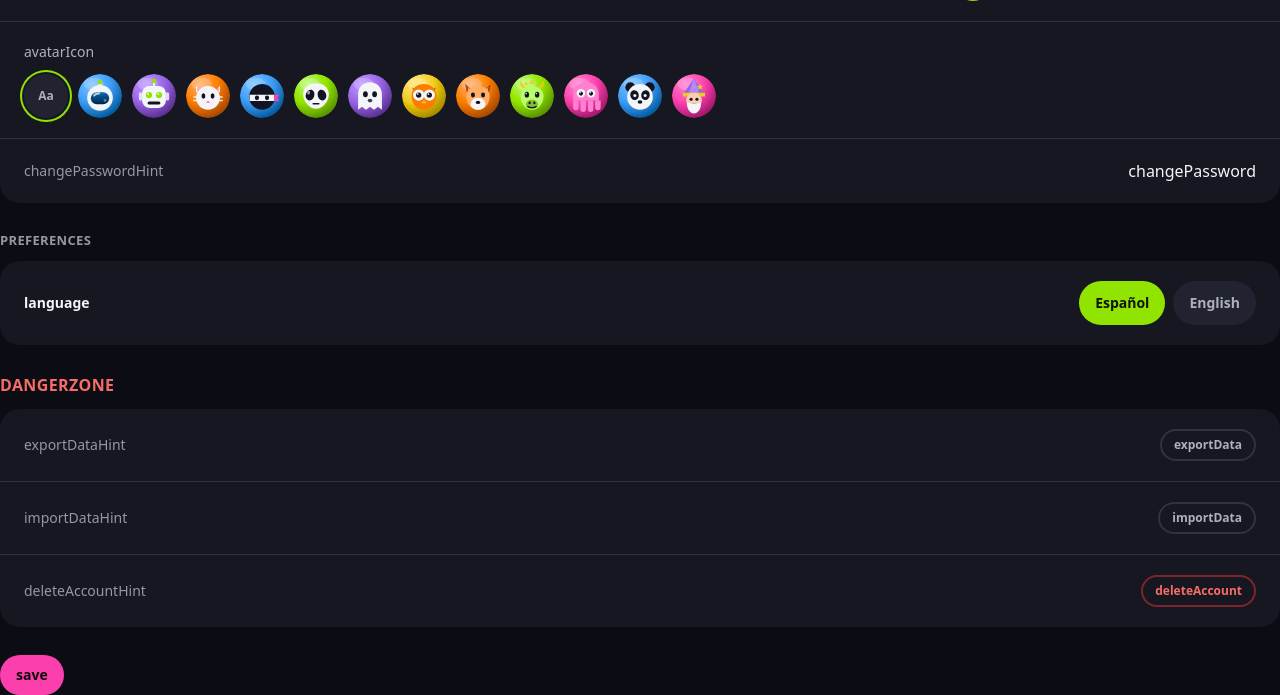
SettingsForm › deleteAccount abre el modal de confirmación (no elimina de inmediato)
(page scrolled)
Click the button "deleteAccount".
click(1199, 591)  # box left=1141, top=575, right=1256, bottom=607
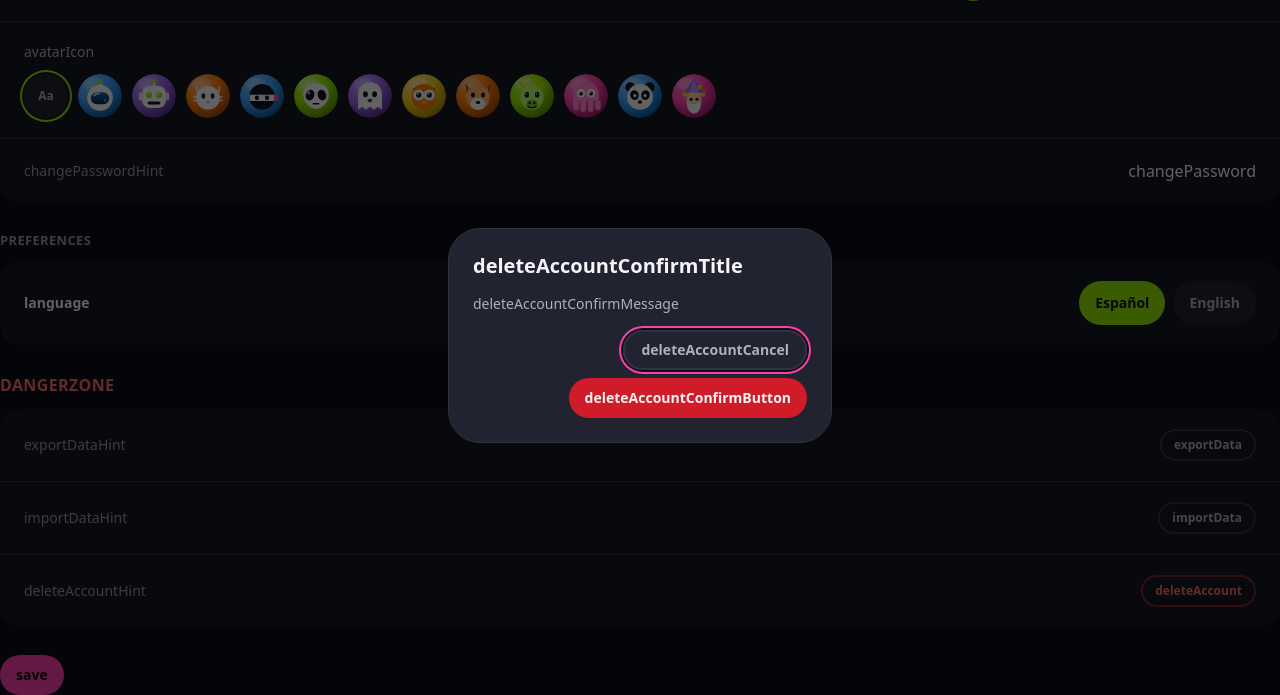
Expected: the heading "deleteAccountConfirmTitle" is shown, left=473, top=252, right=743, bottom=278
Expected: the text "deleteAccountConfirmMessage" is shown, left=473, top=294, right=679, bottom=312
